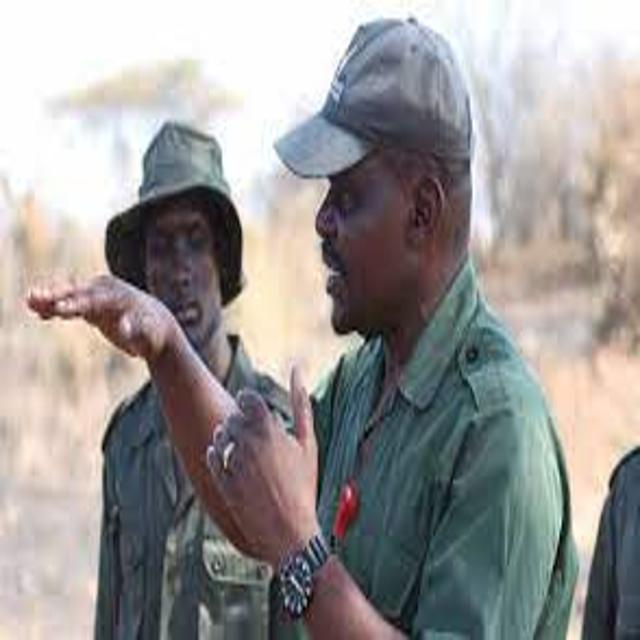ranger: (5, 4, 605, 640), (12, 94, 352, 638)
